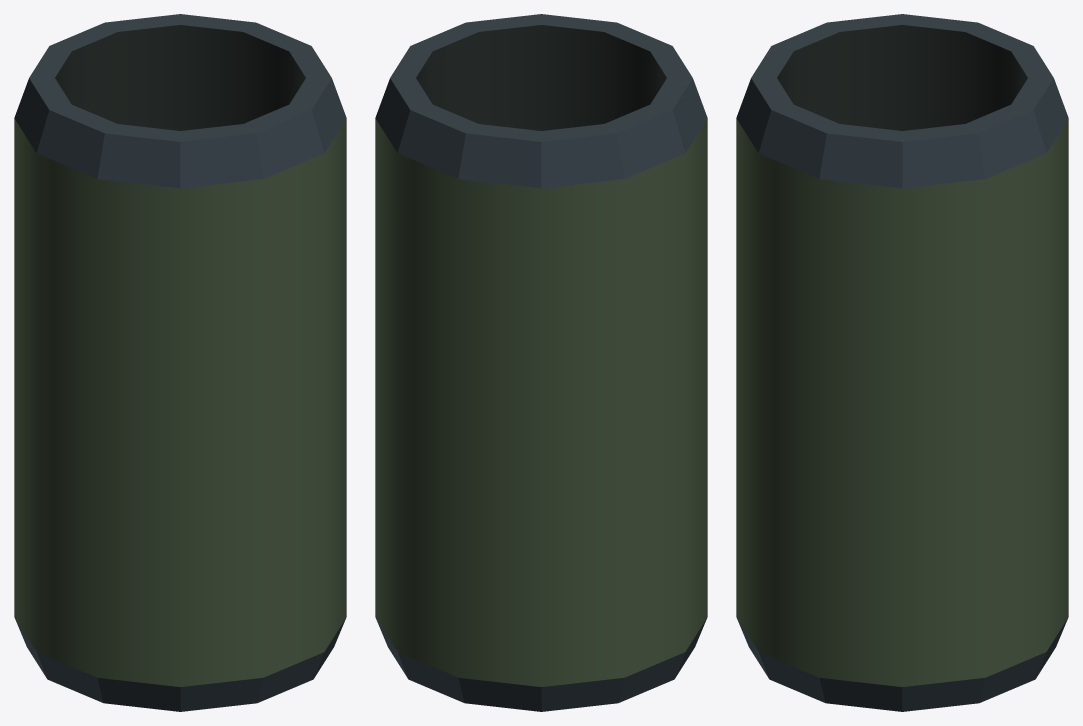
Rendered from Street_Trash_Bin.fbx.
The picture shows the model from 3 angles, left to right: view 1: azimuth 30°, elevation 25°; view 2: azimuth 150°, elevation 25°; view 3: azimuth 270°, elevation 25°; orthographic projection.
Visible parts, largest first — view 1: Street_Trash_Bin; view 2: Street_Trash_Bin; view 3: Street_Trash_Bin.
Part boxes in pixels (x1=…): Street_Trash_Bin: x1=14, y1=14, x2=346, y2=711; Street_Trash_Bin: x1=375, y1=14, x2=707, y2=711; Street_Trash_Bin: x1=736, y1=14, x2=1068, y2=711.
Size of the model in its own units: 0.45 by 0.85 by 0.45.
